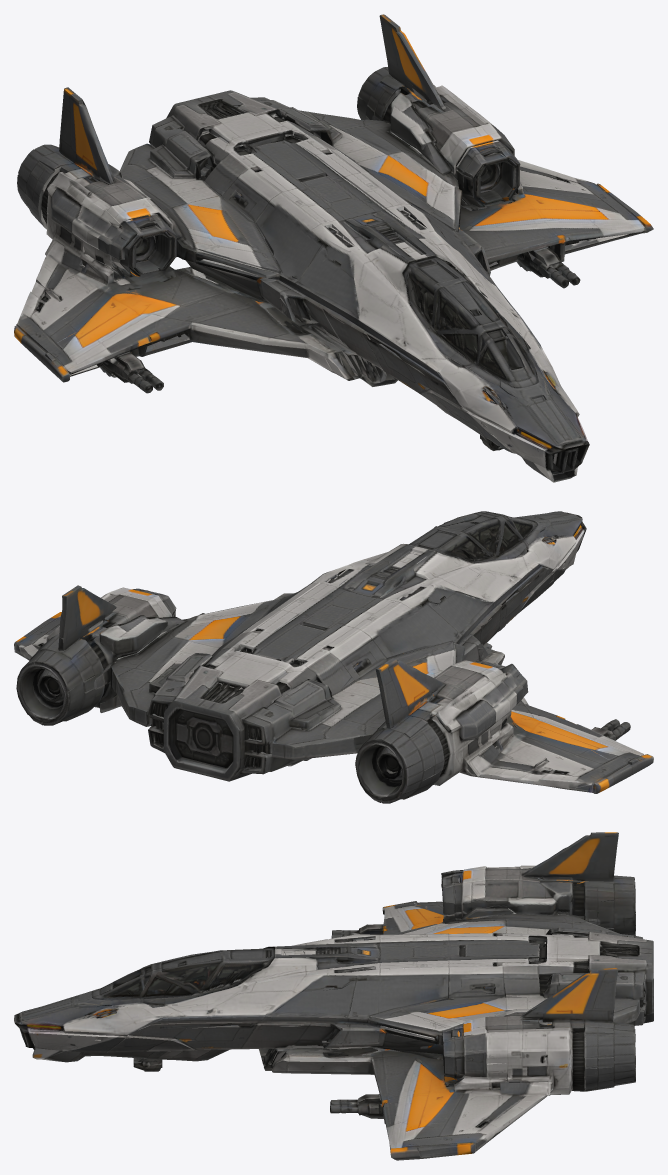
The model's file is fighter-very-high.glb.
3 views of the same model, one above another, from view 1: azimuth 30°, elevation 25°; view 2: azimuth 150°, elevation 25°; view 3: azimuth 270°, elevation 25° (orthographic). The views are drawn at different scales.
Visible parts, largest first — view 1: Low; view 2: Low; view 3: Low.
Part boxes in pixels (bbox=[...]): Low: bbox=[14, 14, 653, 482]; Low: bbox=[14, 511, 653, 803]; Low: bbox=[14, 832, 653, 1160].
Bounding box in the file's own units: 1.66 × 0.5278 × 1.8.
Materials: 1 (1 with a texture image).
